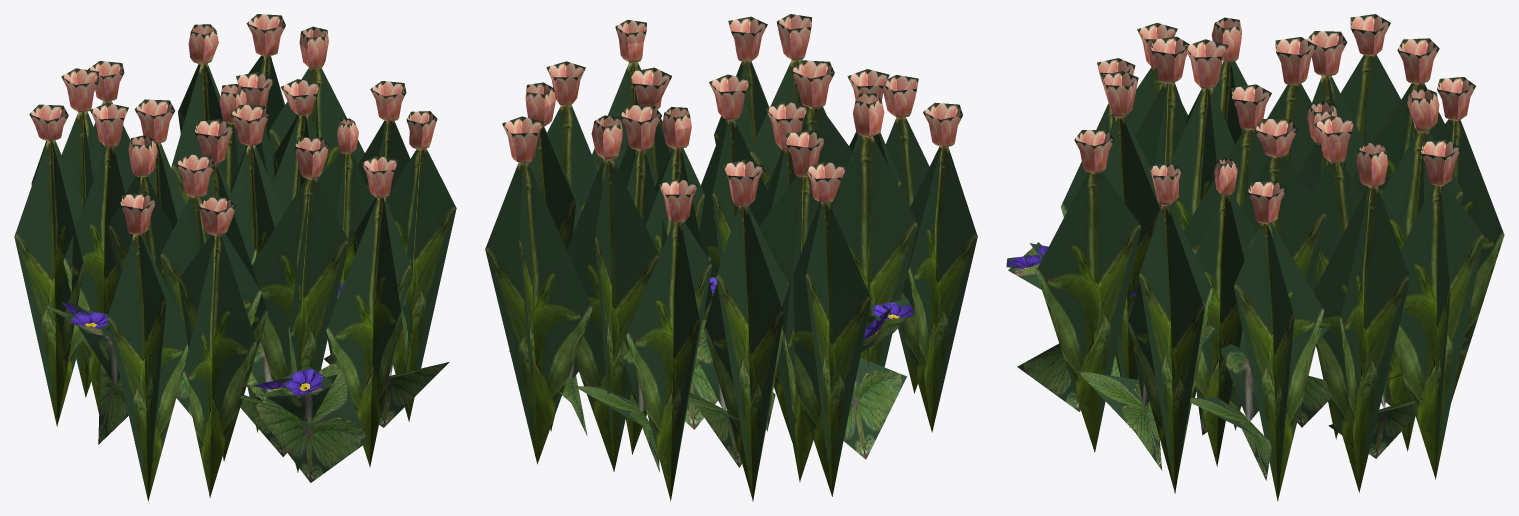
The model's file is Flower03.FBX.
3 views of the same model, side by side, from view 1: azimuth 30°, elevation 25°; view 2: azimuth 150°, elevation 25°; view 3: azimuth 270°, elevation 25° (orthographic). The views are drawn at different scales.
Parts seen in each view (by area): view 1: LV_Spechia_Foliage_SF01_PM_IJH; view 2: LV_Spechia_Foliage_SF01_PM_IJH; view 3: LV_Spechia_Foliage_SF01_PM_IJH.
Boxes of the visible parts, x1,y1,x2,y2 form: LV_Spechia_Foliage_SF01_PM_IJH: (14,14,456,501); LV_Spechia_Foliage_SF01_PM_IJH: (485,14,977,501); LV_Spechia_Foliage_SF01_PM_IJH: (1006,14,1504,501).
Size of the model in its own units: 17.86 by 15.95 by 19.81.
